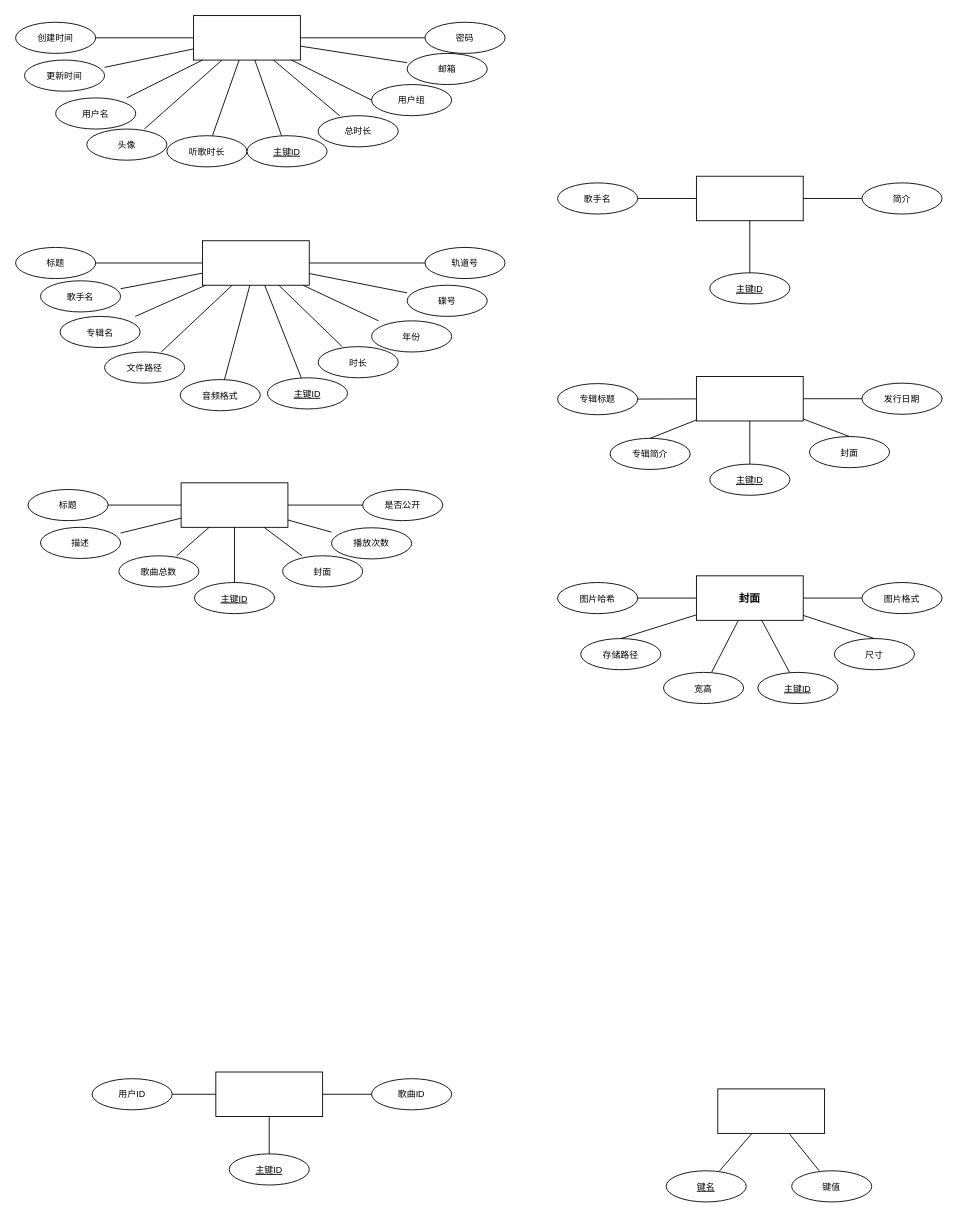
Image size: 958x1218. Some labels were removed from this diagram. Each missing label, with the centre of its shape:
"专辑" goes at point 749,398.
"播放历史" goes at point 269,1094.
"歌单" goes at point 234,504.
"歌手" goes at point 749,198.
"歌曲" goes at point 255,262.
"用户" goes at point 246,37.
"系统信息" goes at point 771,1110.
